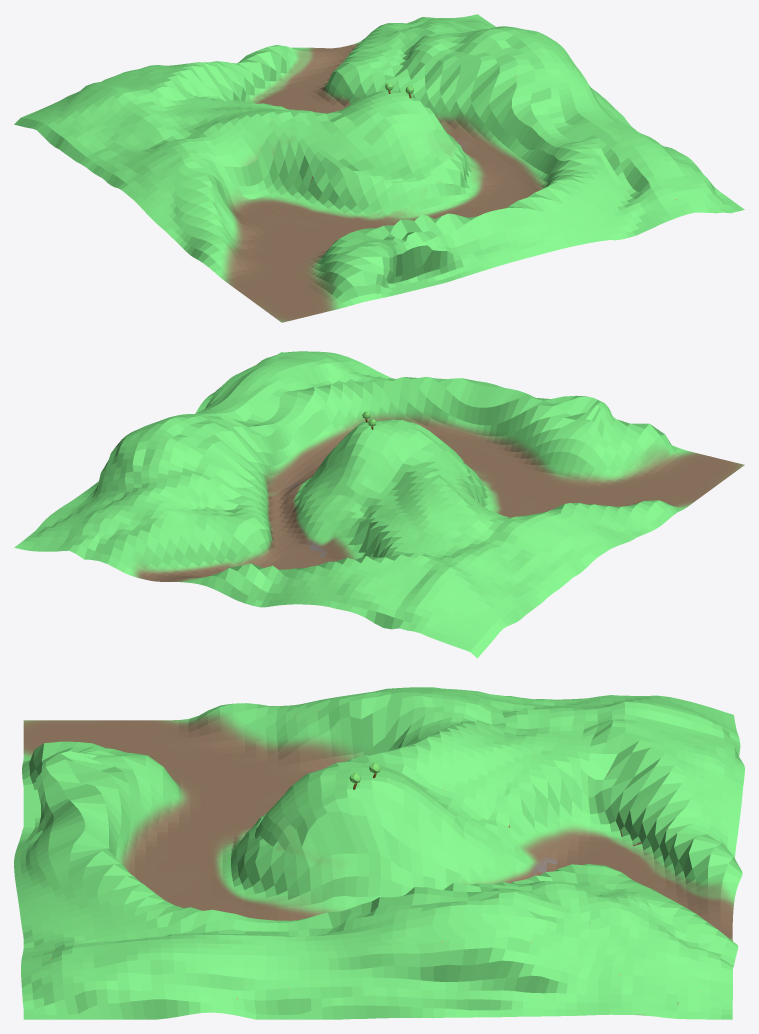
File: prueba.fbx
3 renders of one model, top to bottom at view 1: azimuth 30°, elevation 25°; view 2: azimuth 150°, elevation 25°; view 3: azimuth 270°, elevation 25°, orthographic. The views are drawn at different scales.
Parts seen in each view (by area): view 1: mapa; view 2: mapa; view 3: mapa.
Part boxes in pixels (box(x1,y1,x2,y2)): mapa: box(14, 14, 744, 322); mapa: box(14, 351, 744, 658); mapa: box(14, 687, 744, 1019).
Bounding box in the file's own units: 6122 × 1044 × 6187.
5 materials, 1 textured.
